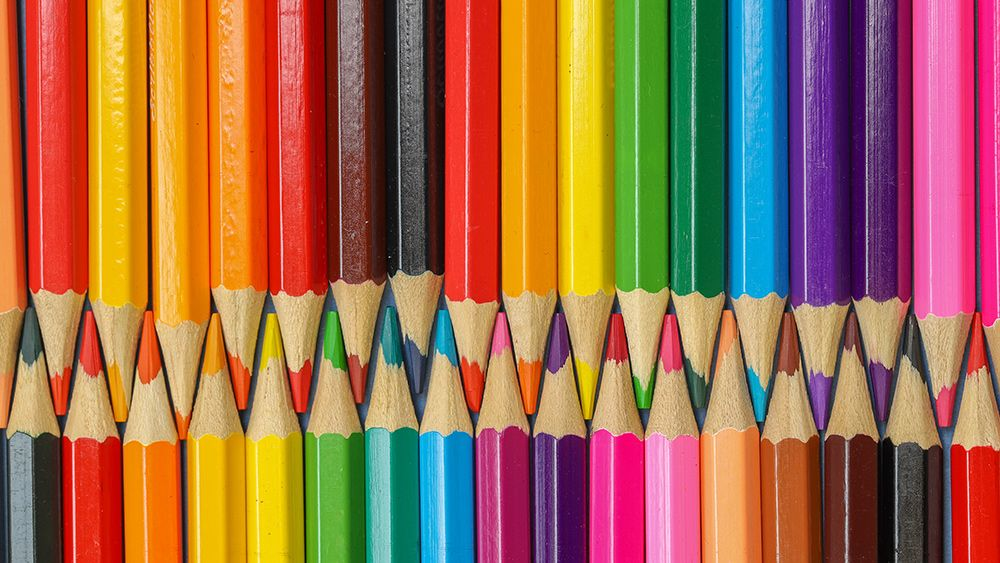pencil: (2, 2, 859, 563)
